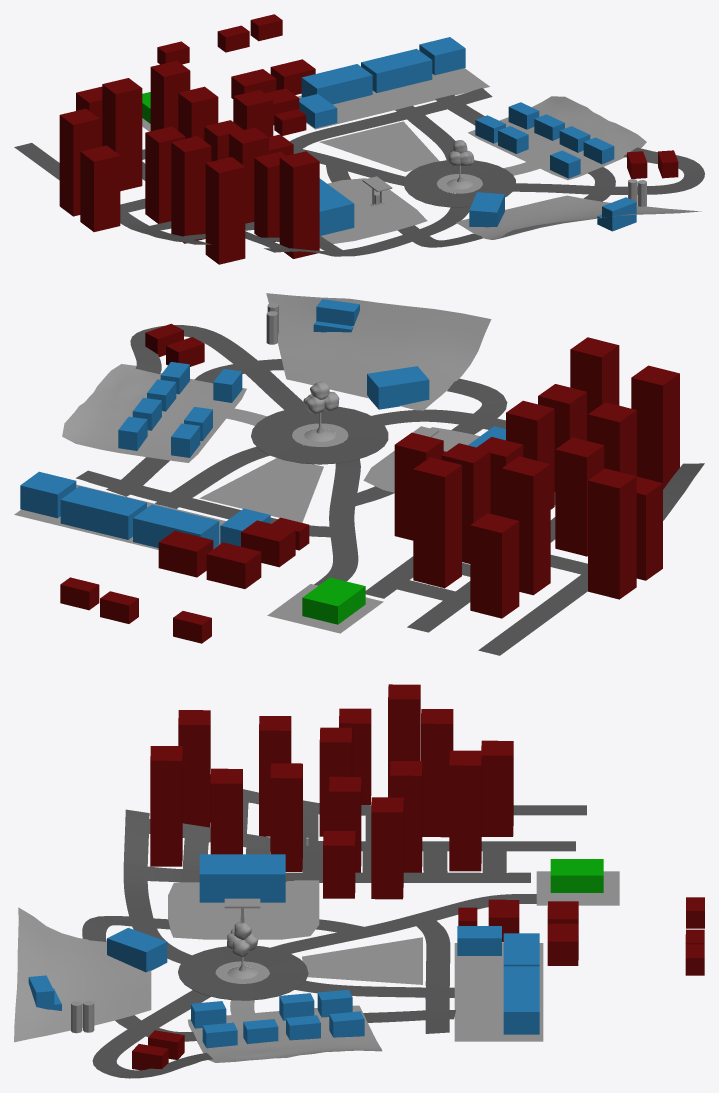
File: City_Layout.fbx
3 renders of one model, top to bottom at view 1: azimuth 30°, elevation 25°; view 2: azimuth 150°, elevation 25°; view 3: azimuth 270°, elevation 25°, orthographic. The views are drawn at different scales.
Parts seen in each view (by area): view 1: Road_Mesh01, HousingSubdivision_Ground_Mesh01, NonEnterable_CityBlding_Mesh14, NonEnterable_CityBlding_Mesh15, NonEnterable_CityBlding_Mesh09, NonEnterable_CityBlding_Mesh12, Farm_Ground_Mesh01, GasStation_ParkingLot_Mesh01, ShoppingParkingLot_Mesh01, NonEnterable_CityBlding_Mesh08, RoundAbout_Road_Mesh01, CityBlockOut_WiP01_pPlane2 (+36 smaller); view 2: Road_Mesh01, Farm_Ground_Mesh01, HousingSubdivision_Ground_Mesh01, NonEnterable_CityBlding_Mesh07, NonEnterable_CityBlding_Mesh03, NonEnterable_CityBlding_Mesh09, RoundAbout_Road_Mesh01, NonEnterable_CityBlding_Mesh14, NonEnterable_CityBlding_Mesh06, CityBlockOut_WiP01_pPlane2, NonEnterable_CityBlding_Mesh10, Store_Mesh01 (+34 smaller); view 3: Road_Mesh01, Farm_Ground_Mesh01, GasStation_ParkingLot_Mesh01, ShoppingParkingLot_Mesh01, RoundAbout_Road_Mesh01, HousingSubdivision_Ground_Mesh01, CityBlockOut_WiP01_pPlane2, GasStation_Building_Mesh01, NonEnterable_CityBlding_Mesh03, NonEnterable_CityBlding_Mesh15, NonEnterable_CityBlding_Mesh09, NonEnterable_CityBlding_Mesh14 (+34 smaller).
Part boxes in pixels (x1,y1,x2,y2): Road_Mesh01: [14, 88, 704, 256]; HousingSubdivision_Ground_Mesh01: [468, 96, 646, 180]; NonEnterable_CityBlding_Mesh14: [205, 157, 245, 264]; NonEnterable_CityBlding_Mesh15: [279, 151, 319, 258]; NonEnterable_CityBlding_Mesh09: [102, 78, 142, 191]; NonEnterable_CityBlding_Mesh12: [171, 136, 211, 243]; Farm_Ground_Mesh01: [456, 195, 701, 239]; GasStation_ParkingLot_Mesh01: [321, 178, 427, 243]; ShoppingParkingLot_Mesh01: [297, 68, 489, 129]; NonEnterable_CityBlding_Mesh08: [80, 145, 120, 231]; RoundAbout_Road_Mesh01: [403, 160, 516, 207]; CityBlockOut_WiP01_pPlane2: [319, 121, 439, 171]; Road_Mesh01: [76, 325, 704, 655]; Farm_Ground_Mesh01: [266, 293, 491, 410]; HousingSubdivision_Ground_Mesh01: [62, 364, 246, 462]; NonEnterable_CityBlding_Mesh07: [588, 468, 636, 599]; NonEnterable_CityBlding_Mesh03: [413, 457, 461, 588]; NonEnterable_CityBlding_Mesh09: [501, 456, 550, 595]; RoundAbout_Road_Mesh01: [251, 406, 388, 464]; NonEnterable_CityBlding_Mesh14: [631, 365, 679, 489]; NonEnterable_CityBlding_Mesh06: [470, 513, 519, 618]; CityBlockOut_WiP01_pPlane2: [199, 458, 323, 522]; NonEnterable_CityBlding_Mesh10: [555, 437, 604, 556]; Store_Mesh01: [60, 486, 146, 539]; Road_Mesh01: [82, 789, 586, 1078]; Farm_Ground_Mesh01: [14, 907, 151, 1042]; GasStation_ParkingLot_Mesh01: [168, 880, 319, 939]; ShoppingParkingLot_Mesh01: [454, 943, 543, 1041]; RoundAbout_Road_Mesh01: [178, 946, 308, 1000]; HousingSubdivision_Ground_Mesh01: [188, 1005, 382, 1062]; CityBlockOut_WiP01_pPlane2: [302, 937, 422, 984]; GasStation_Building_Mesh01: [199, 854, 285, 902]; NonEnterable_CityBlding_Mesh03: [449, 750, 481, 871]; NonEnterable_CityBlding_Mesh15: [150, 746, 182, 866]; NonEnterable_CityBlding_Mesh09: [421, 709, 453, 837]; NonEnterable_CityBlding_Mesh14: [178, 710, 210, 827].
Bounding box in the file's own units: 144 × 26.13 × 144.
